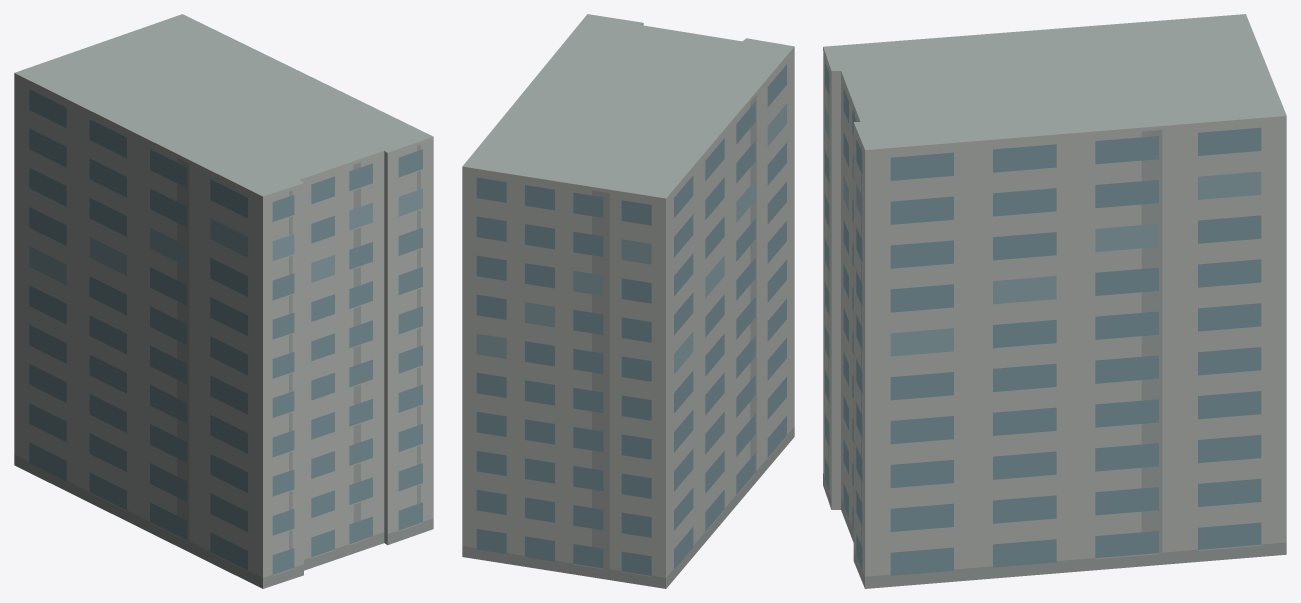
File: survey-upis-32767817.glb
The picture shows the model from 3 angles, left to right: view 1: azimuth 30°, elevation 25°; view 2: azimuth 150°, elevation 25°; view 3: azimuth 270°, elevation 25°; orthographic projection. The views are drawn at different scales.
Parts seen in each view (by area): view 1: survey-upis-32767817.tmp; view 2: survey-upis-32767817.tmp; view 3: survey-upis-32767817.tmp.
Part boxes in pixels (left/top/right/bottom): survey-upis-32767817.tmp: left=14, top=14, right=433, bottom=588; survey-upis-32767817.tmp: left=462, top=14, right=794, bottom=588; survey-upis-32767817.tmp: left=823, top=14, right=1286, bottom=588.
Bounding box in the file's own units: 18.37 × 27.6 × 26.44.
